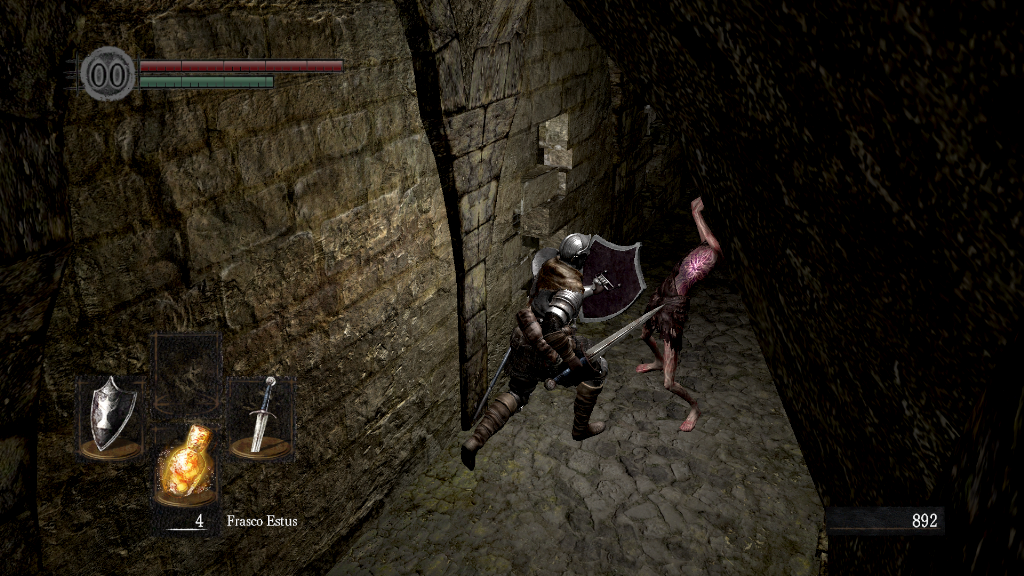health: (138, 58, 343, 71)
hollow: (637, 195, 724, 434)
humanity: (80, 45, 136, 102)
player: (460, 231, 669, 472)
souls: (825, 506, 945, 536)
stamina: (138, 74, 274, 88)
